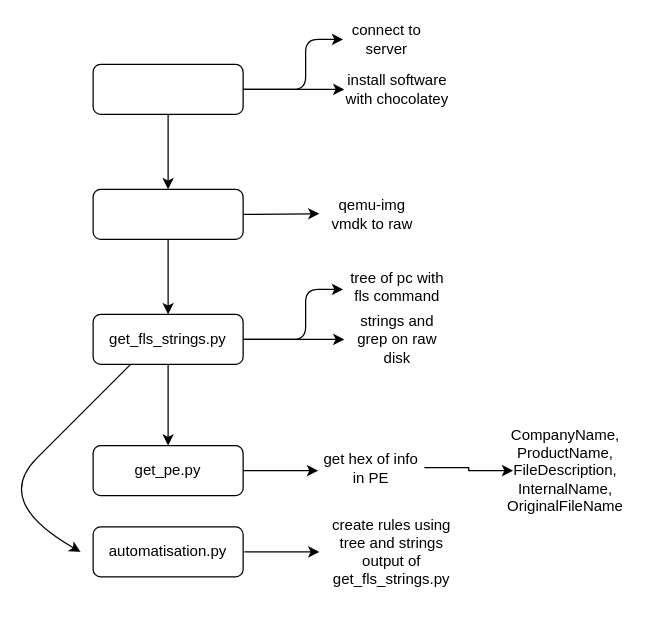
This 646x636 diagram has some shape labels left out. Each missing label, with the centre of its shape:
"client.py" belongs at (x=167, y=88).
"Conversion" belongs at (x=167, y=213).
